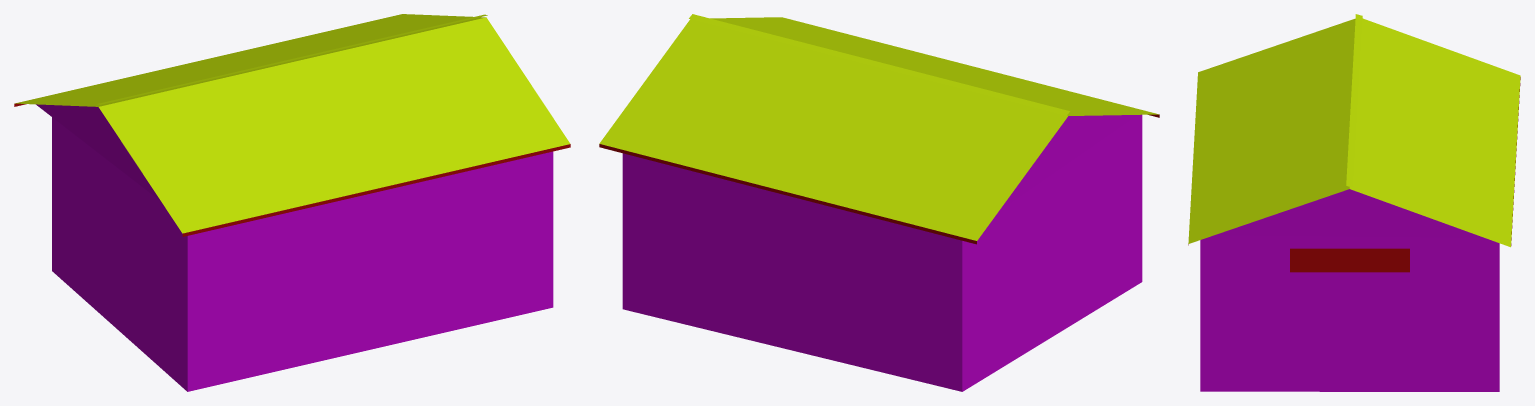
File: vzc_22.glb
3 renders of one model, left to right at view 1: azimuth 30°, elevation 25°; view 2: azimuth 150°, elevation 25°; view 3: azimuth 270°, elevation 25°, orthographic. The views are drawn at different scales.
Visible parts, largest first — view 1: vzc_22; view 2: vzc_22; view 3: vzc_22.
Boxes of the visible parts, x1=… form: vzc_22: x1=14, y1=14, x2=570, y2=391; vzc_22: x1=599, y1=14, x2=1159, y2=391; vzc_22: x1=1188, y1=14, x2=1520, y2=391.
Size of the model in its own units: 14.27 by 8.06 by 11.44.
